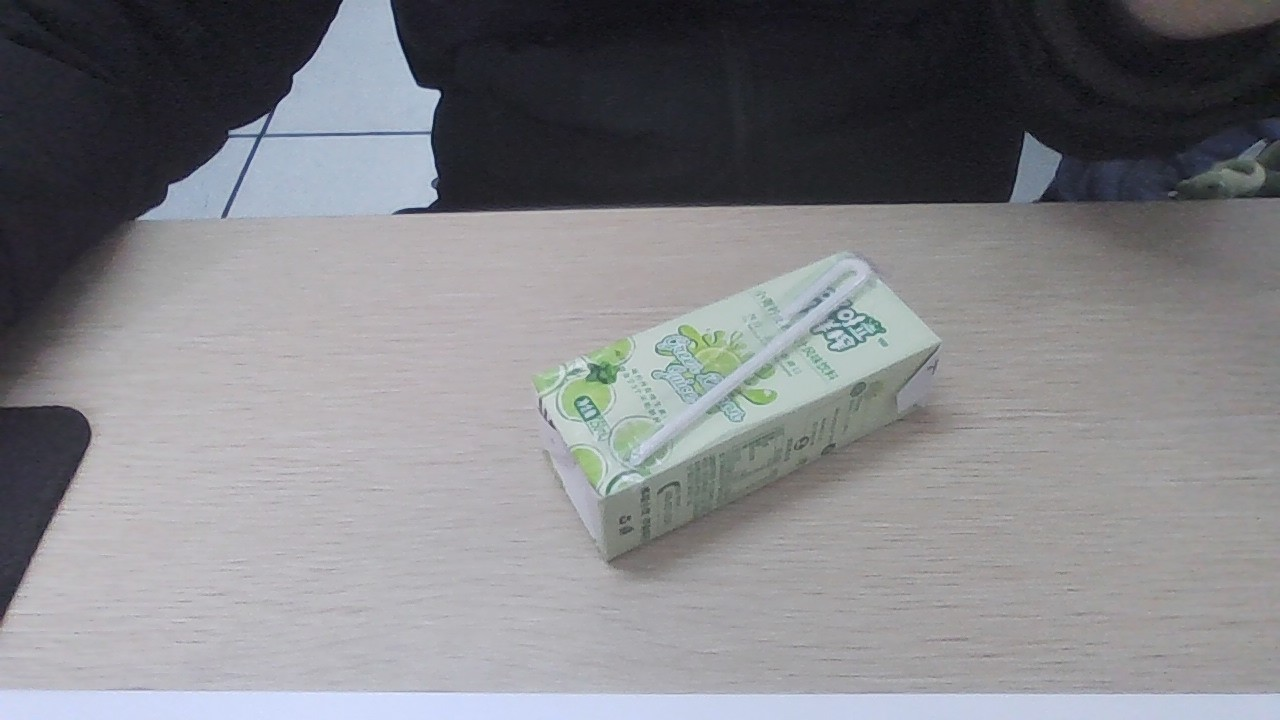CY-drink: (542, 251, 933, 546)
